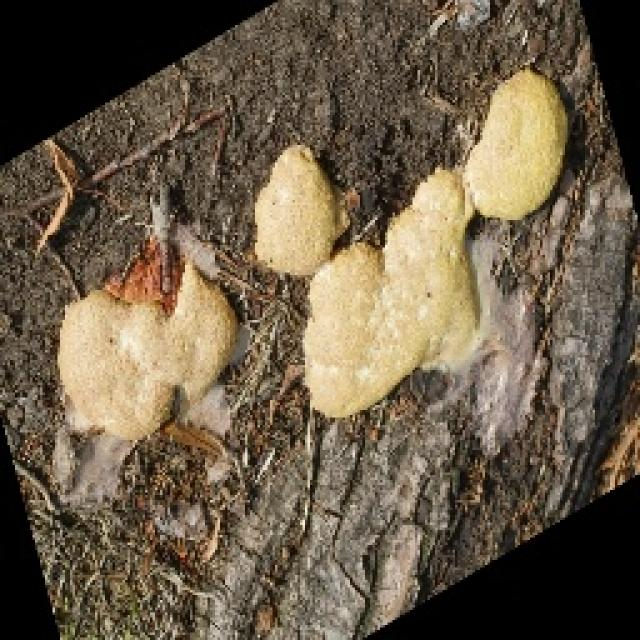Dog_vomit_slime_mold: (41, 60, 558, 502)
